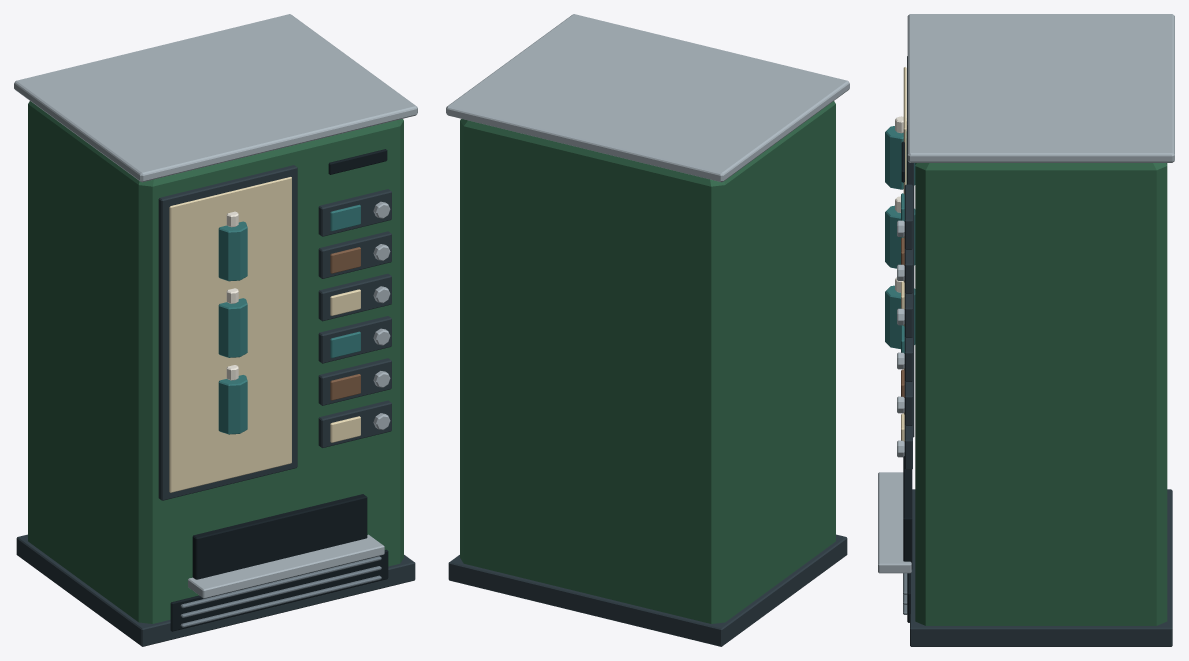
The model's file is b10_bottled_drink_vending_machine.glb.
3 renders of one model, left to right at view 1: azimuth 30°, elevation 25°; view 2: azimuth 150°, elevation 25°; view 3: azimuth 270°, elevation 25°, orthographic. The views are drawn at different scales.
Visible parts, largest first — view 1: b10_bottled_drink_vending_machine; view 2: b10_bottled_drink_vending_machine; view 3: b10_bottled_drink_vending_machine.
Boxes of the visible parts, x1,y1,x2,y2 form: b10_bottled_drink_vending_machine: [14, 14, 417, 646]; b10_bottled_drink_vending_machine: [446, 14, 849, 646]; b10_bottled_drink_vending_machine: [878, 14, 1174, 646].
Bounding box in the file's own units: 1.1 × 1.8 × 0.977.
